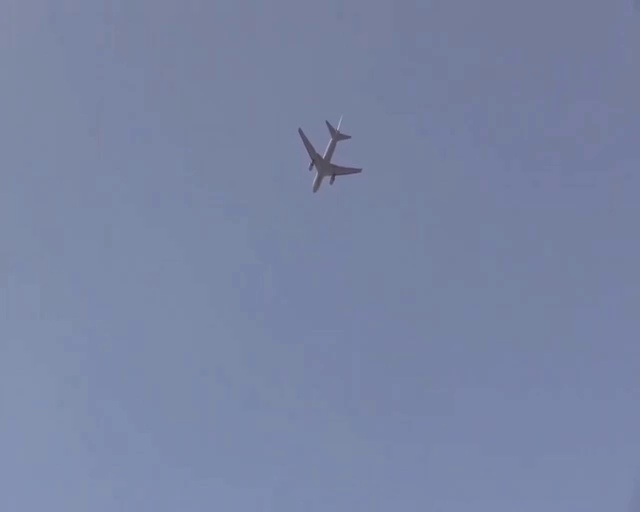AIRPLANE: (299, 117, 362, 193)
